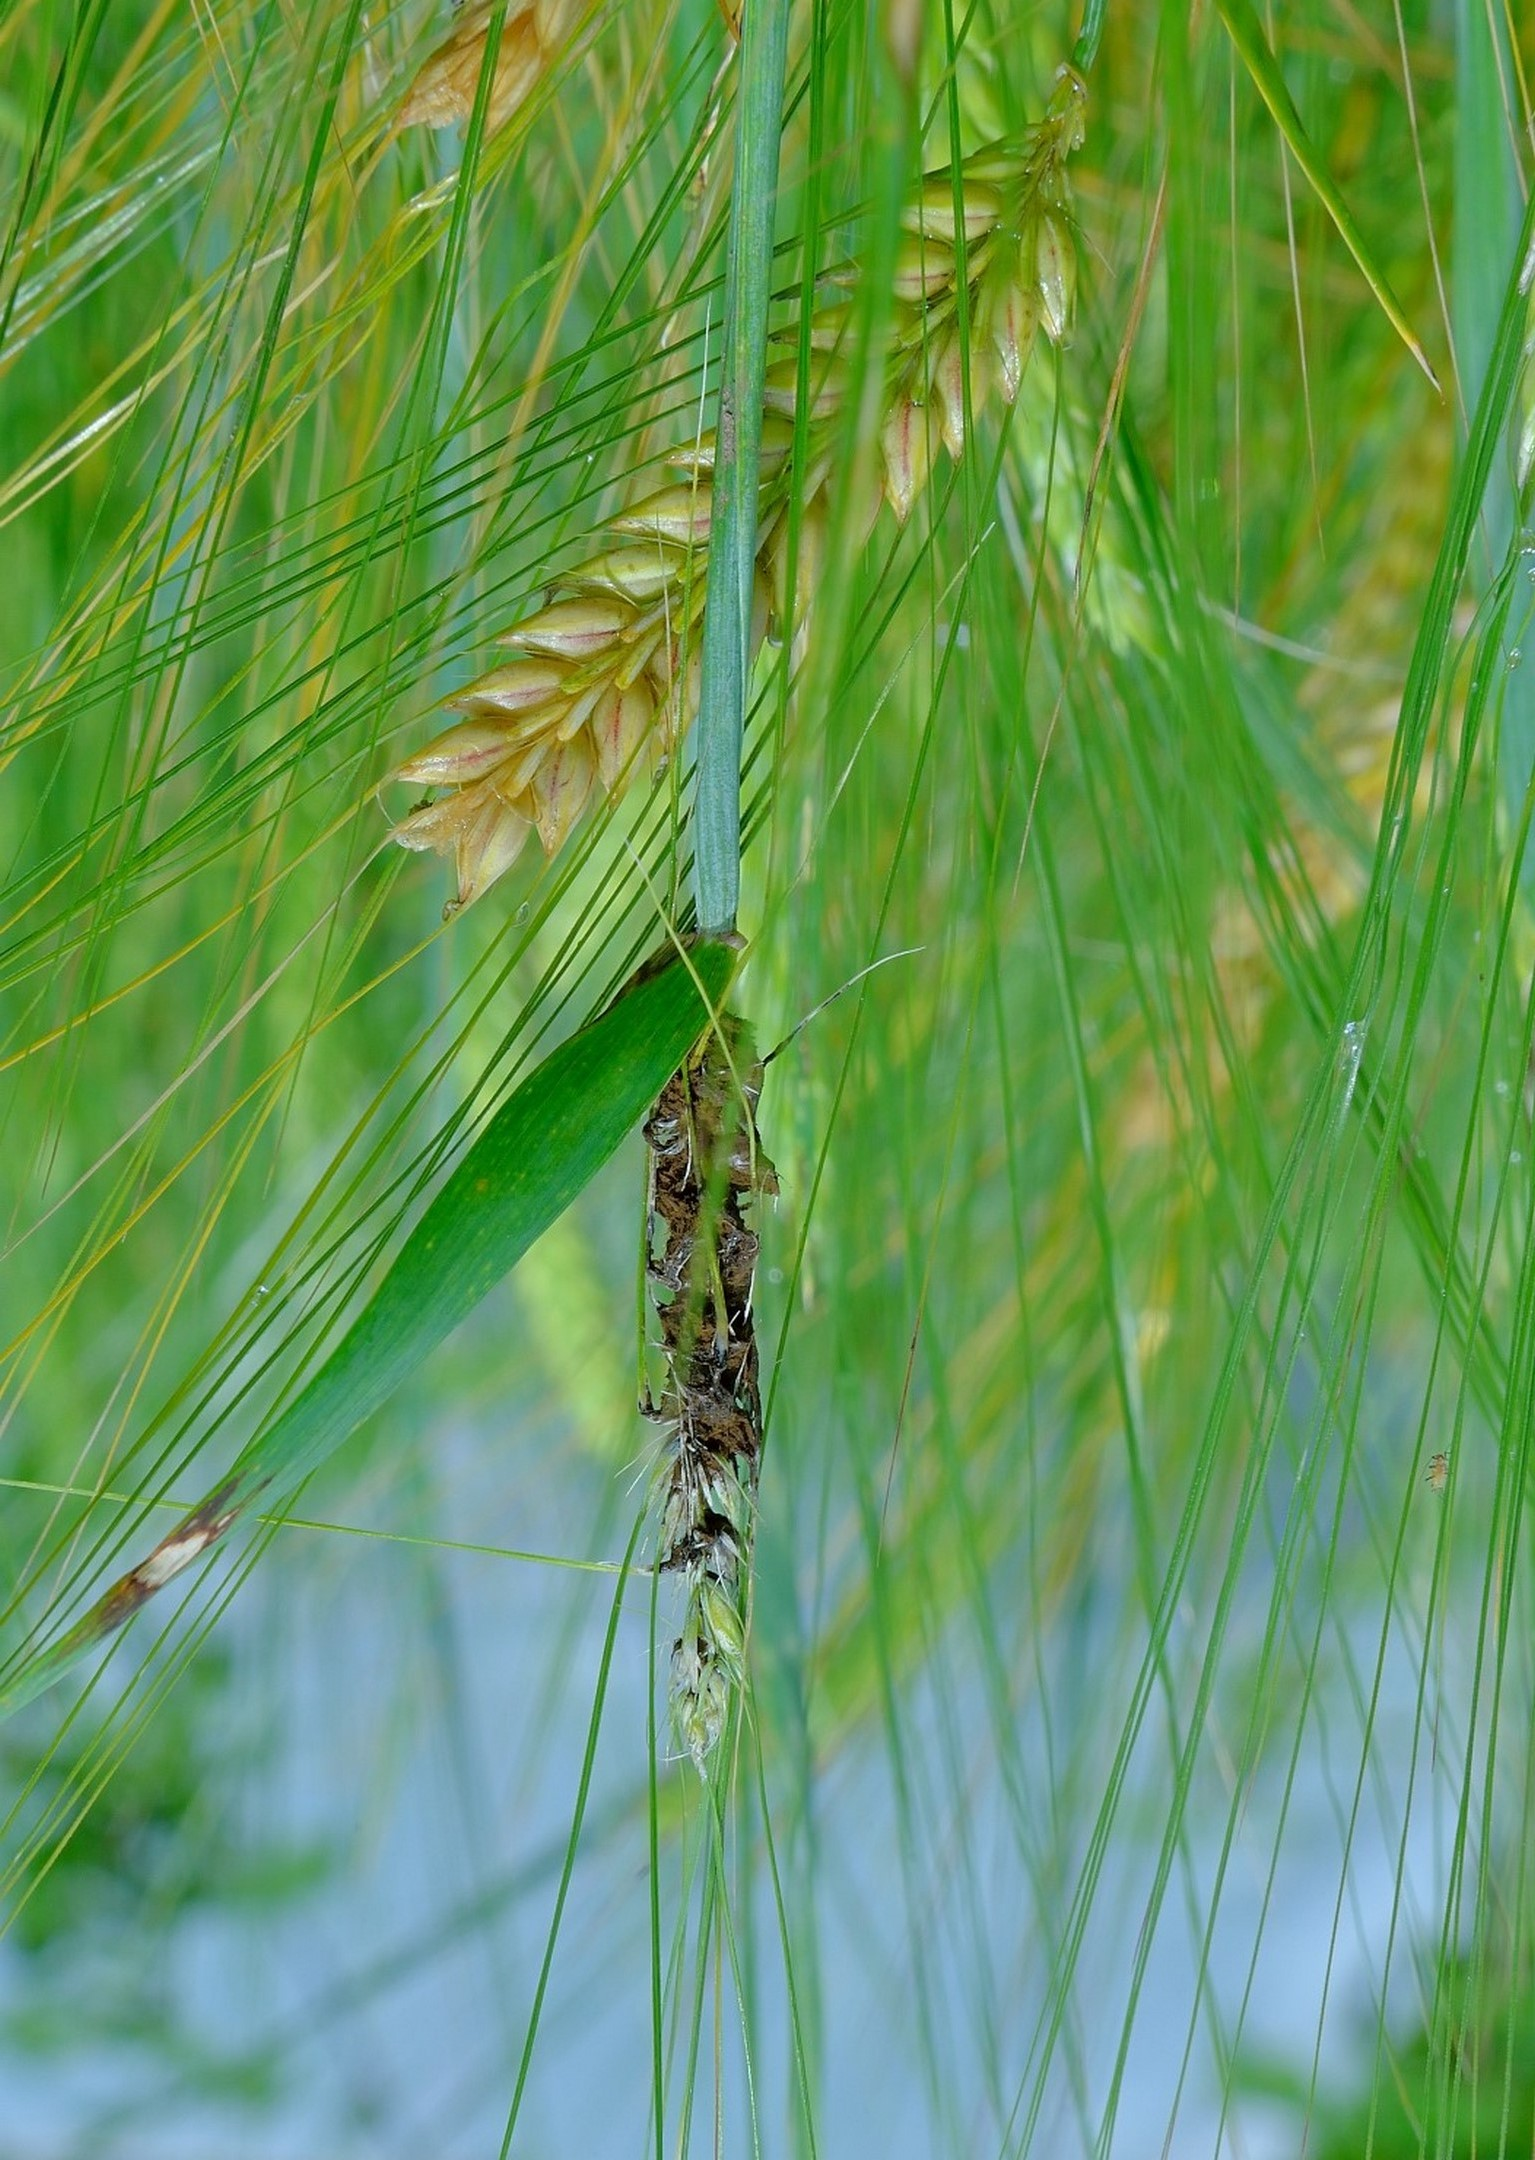Wheat Loose Smut: (585, 975, 847, 1721)
